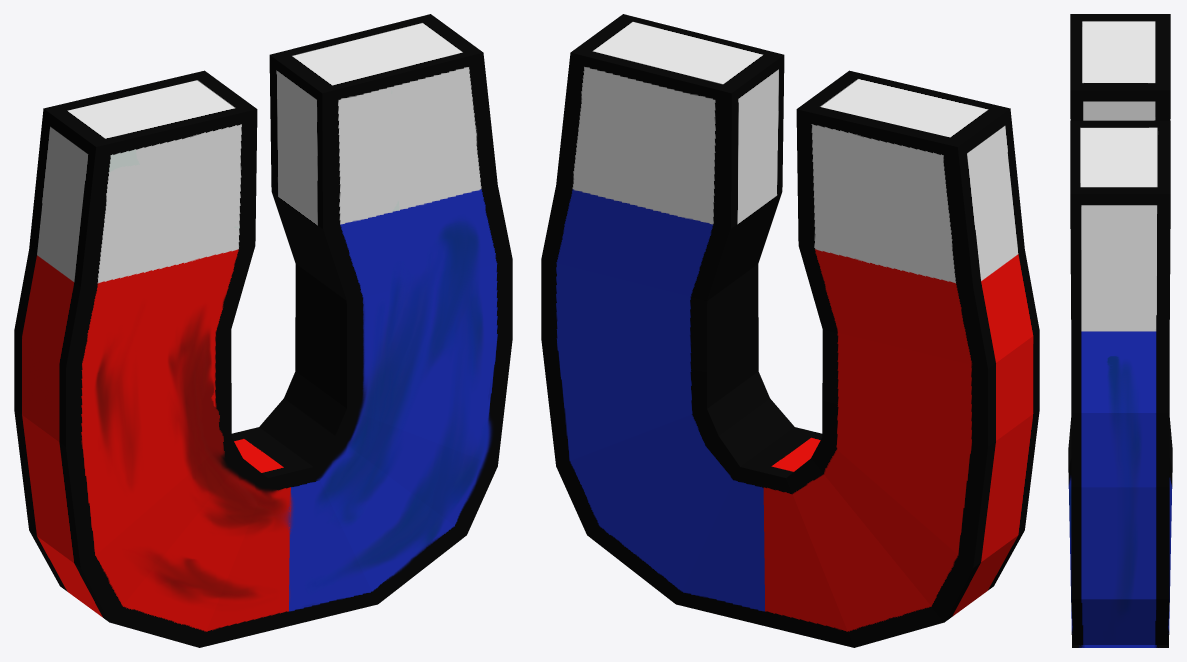
Rendered from magnnet.fbx.
3 views of the same model, side by side, from view 1: azimuth 30°, elevation 25°; view 2: azimuth 150°, elevation 25°; view 3: azimuth 270°, elevation 25° (orthographic). The views are drawn at different scales.
Parts seen in each view (by area): view 1: Cube; view 2: Cube; view 3: Cube.
Boxes of the visible parts, box(x1,y1,x2,y2) form: Cube: box(14, 14, 512, 647); Cube: box(541, 14, 1039, 647); Cube: box(1068, 14, 1172, 647).
Size of the model in its own units: 300 by 338 by 63.44.
1 material, 1 textured.
